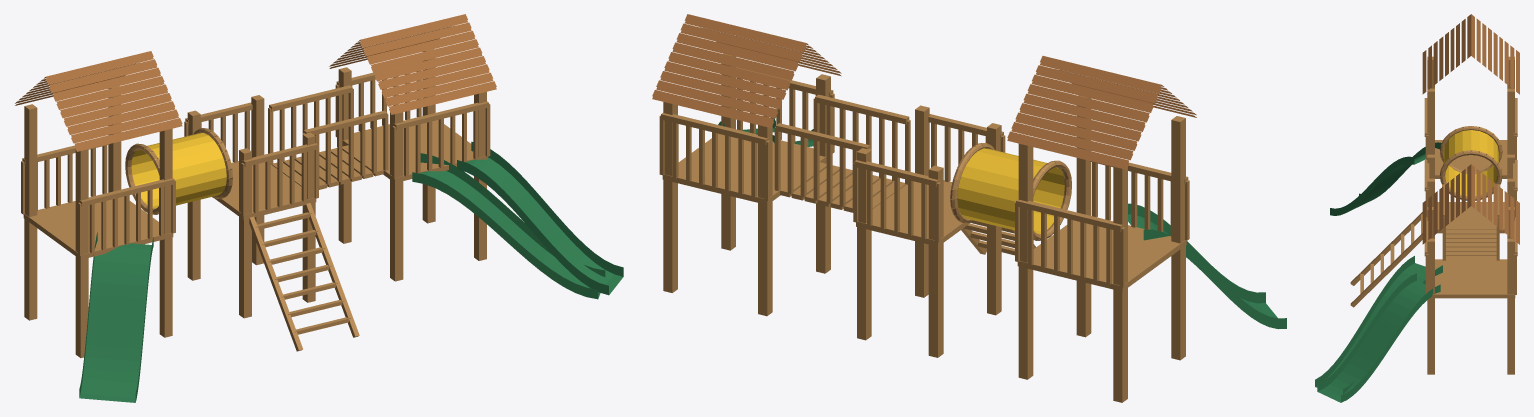
3 renders of one model, left to right at view 1: azimuth 30°, elevation 25°; view 2: azimuth 150°, elevation 25°; view 3: azimuth 270°, elevation 25°, orthographic. The views are drawn at different scales.
Parts seen in each view (by area): view 1: SW-E111; view 2: SW-E111; view 3: SW-E111.
Boxes of the visible parts, x1,y1,x2,y2 form: SW-E111: (15,14,623,402); SW-E111: (652,14,1286,402); SW-E111: (1315,14,1519,402).
Bounding box in the file's own units: 7 × 3.3 × 3.
